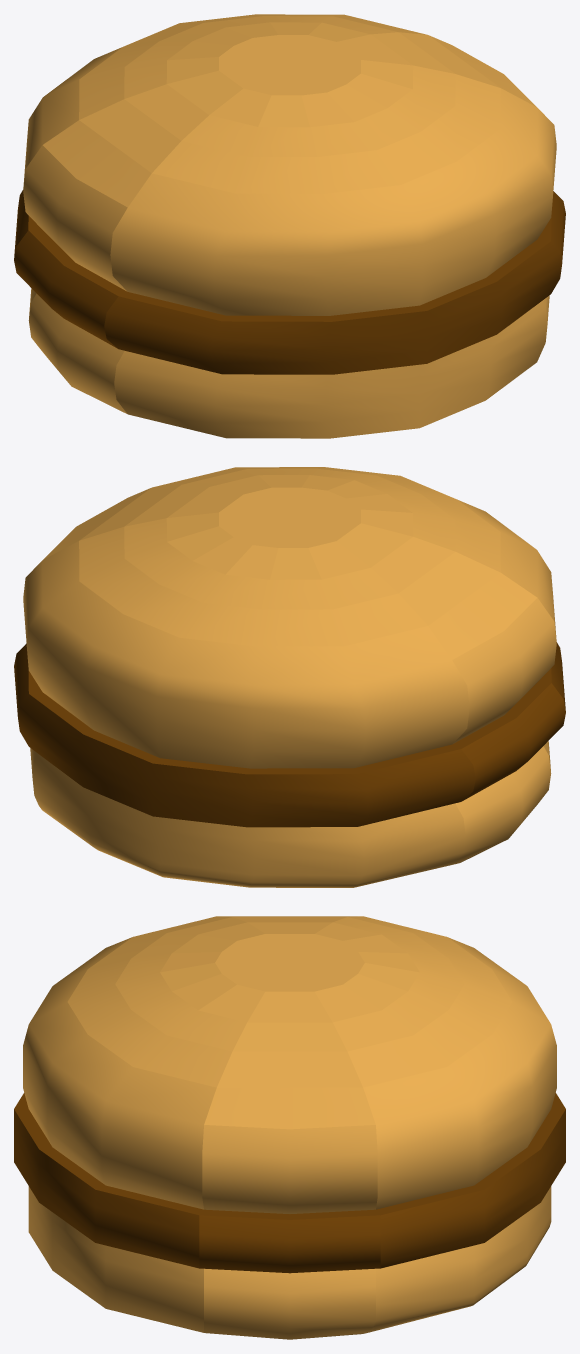
The model's file is burger.fbx.
3 renders of one model, top to bottom at view 1: azimuth 30°, elevation 25°; view 2: azimuth 150°, elevation 25°; view 3: azimuth 270°, elevation 25°, orthographic.
Visible parts, largest first — view 1: pCube3, pCube2, pCube1; view 2: pCube3, pCube2, pCube1; view 3: pCube3, pCube2, pCube1.
Boxes of the visible parts, x1=… form: pCube3: x1=23, y1=14, x2=556, y2=315; pCube2: x1=14, y1=190, x2=565, y2=374; pCube1: x1=28, y1=288, x2=549, y2=438; pCube3: x1=23, y1=467, x2=556, y2=768; pCube2: x1=14, y1=642, x2=565, y2=827; pCube1: x1=30, y1=741, x2=551, y2=887; pCube3: x1=23, y1=916, x2=556, y2=1213; pCube2: x1=14, y1=1093, x2=565, y2=1273; pCube1: x1=28, y1=1186, x2=551, y2=1339.
Size of the model in its own units: 0.1782 by 0.0946 by 0.1756.
